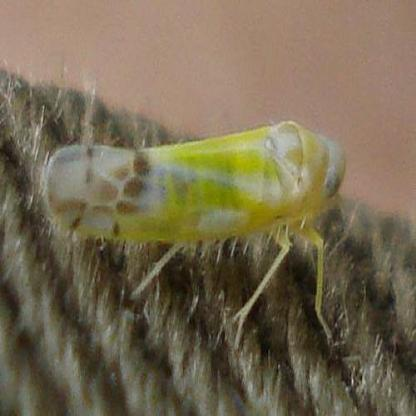green-leafhopper: (52, 117, 350, 254)
